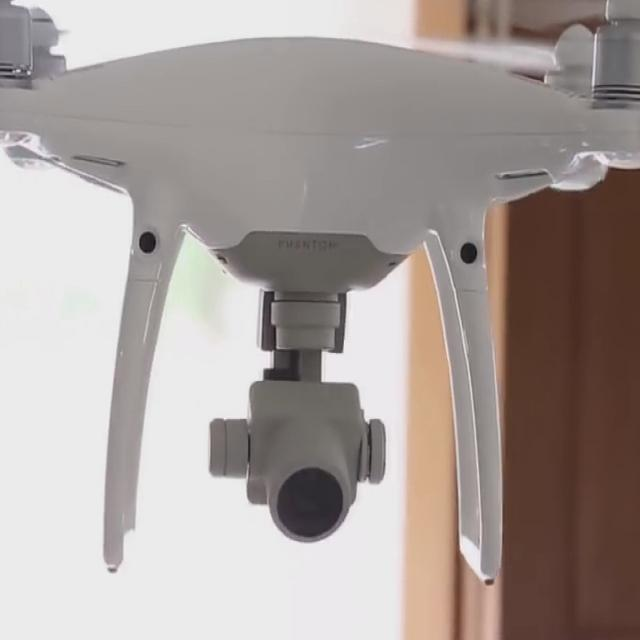drone: (0, 0, 640, 343)
